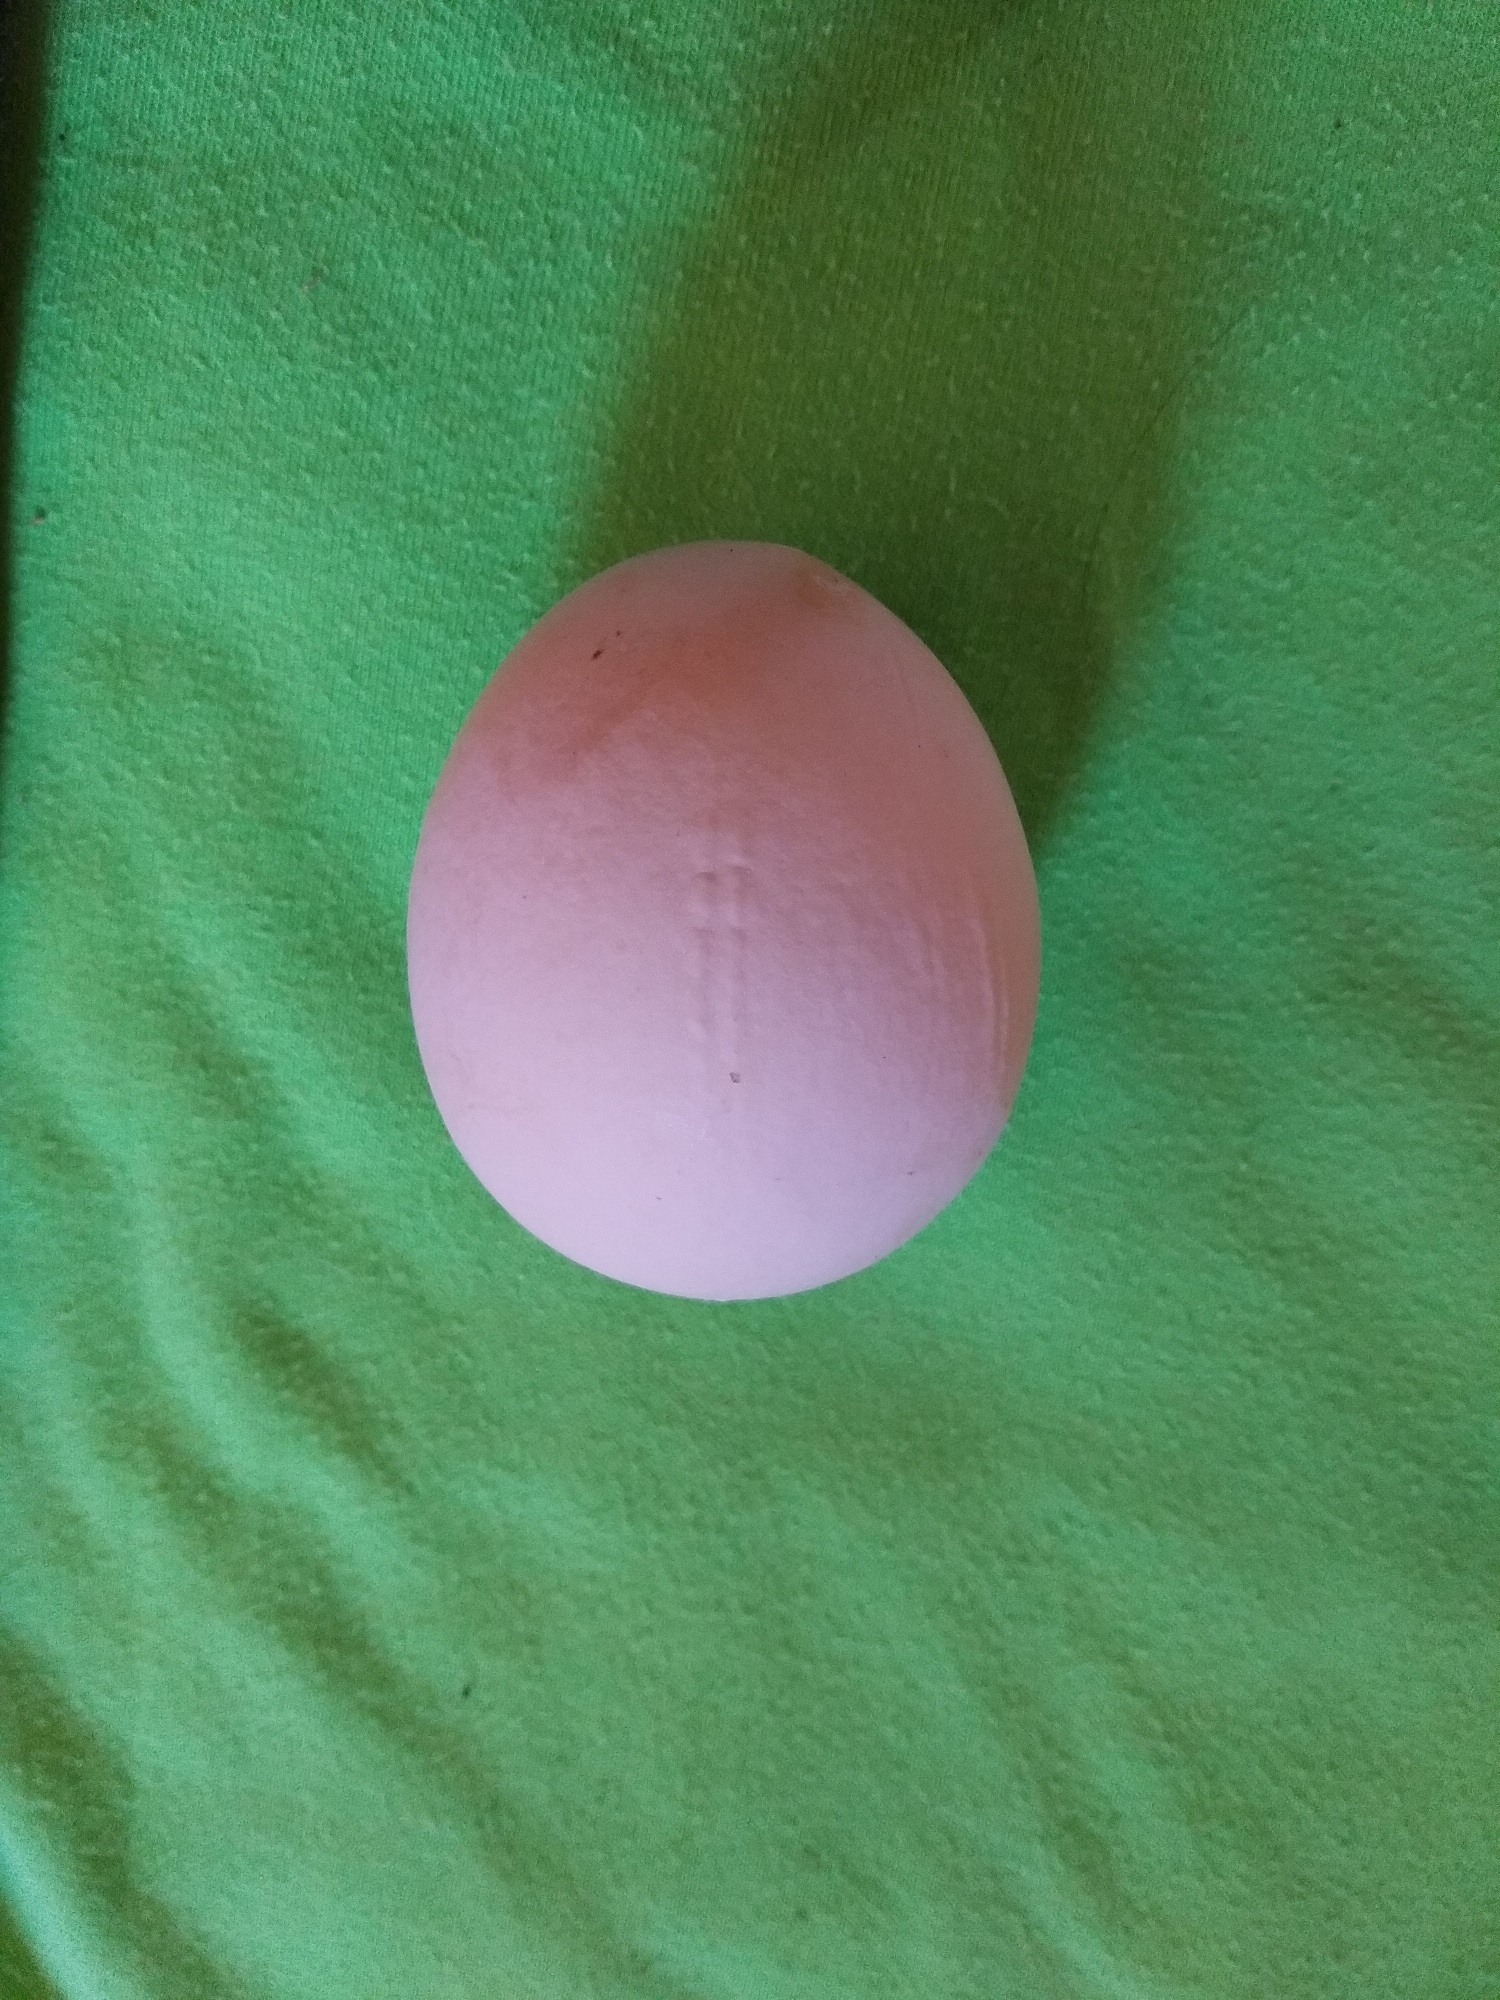Female: (399, 532, 1046, 1307)
